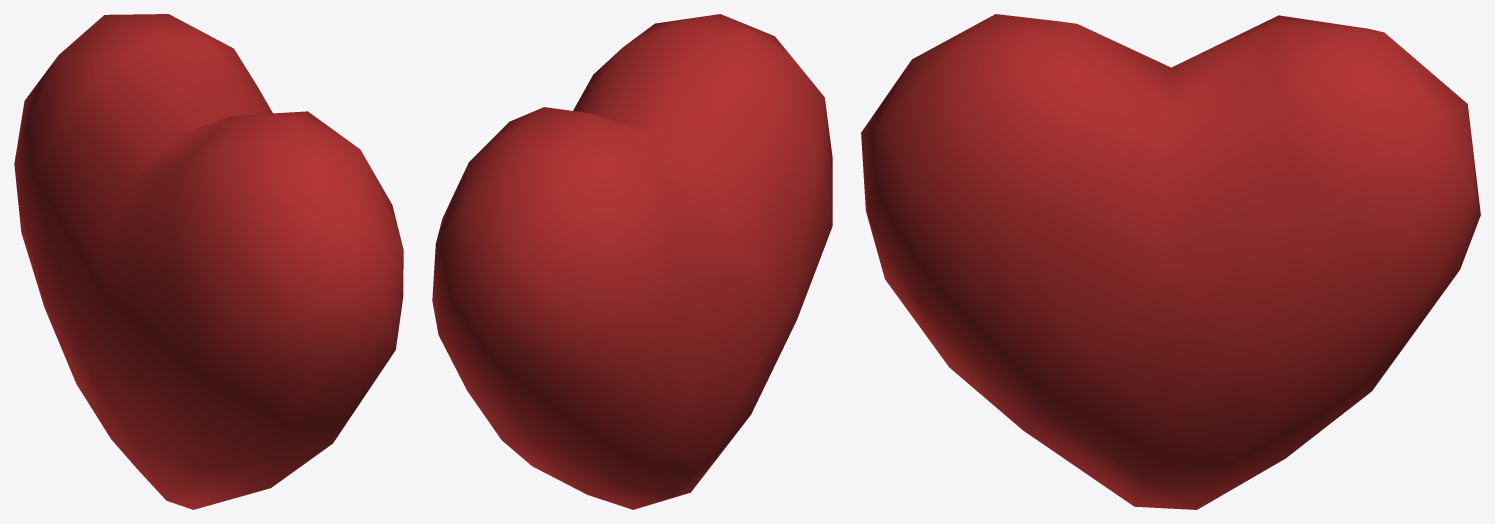
Rendered from HeartSprinkle.fbx.
3 renders of one model, left to right at view 1: azimuth 30°, elevation 25°; view 2: azimuth 150°, elevation 25°; view 3: azimuth 270°, elevation 25°, orthographic. The views are drawn at different scales.
Visible parts, largest first — view 1: Love.001; view 2: Love.001; view 3: Love.001.
Boxes of the visible parts, left/top/right/bottom form: Love.001: left=14, top=14, right=403, bottom=509; Love.001: left=432, top=14, right=832, bottom=509; Love.001: left=861, top=14, right=1480, bottom=509.
Bounding box in the file's own units: 0.2644 × 0.4452 × 0.5321.
